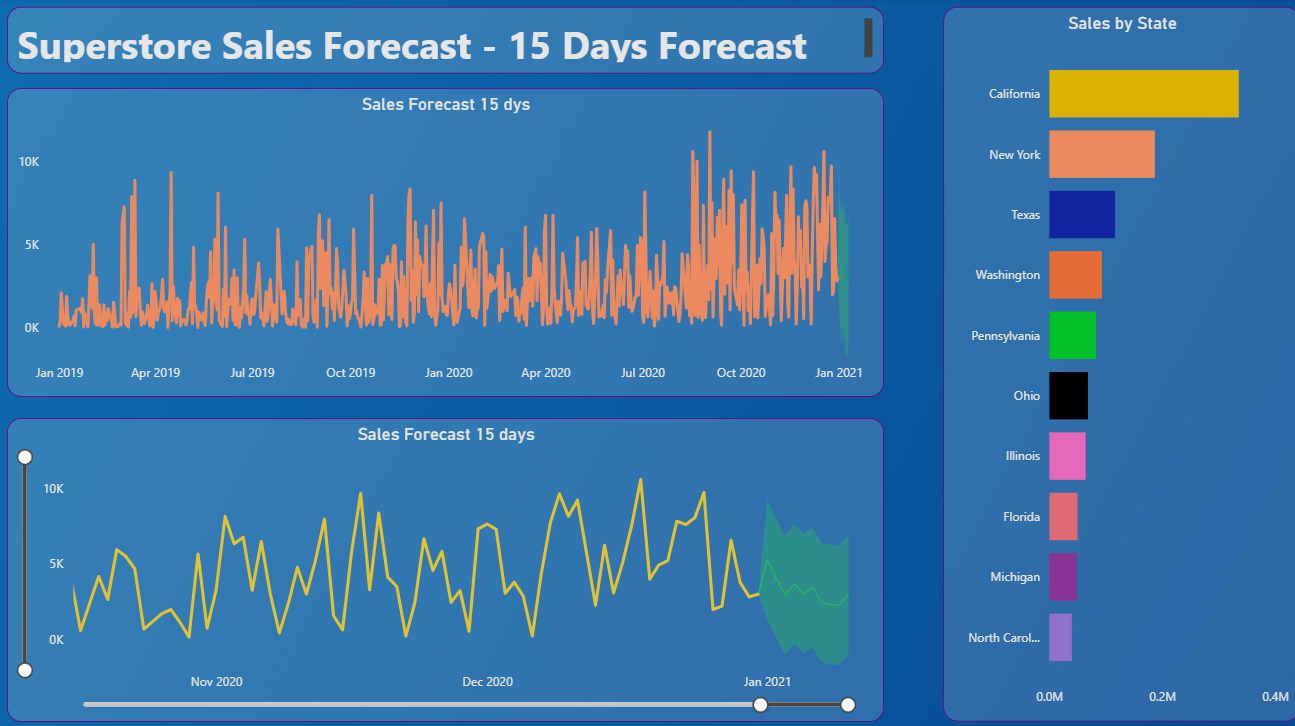

Layout of this report page (visuals, bound fields, positions):
{"tool":"powerbi","page":{"name":"Sales_Forecast","canvas":[1280,720],"ordinal":1},"visuals":[{"type":"lineChart","title":"Sales Forecast 15 dys","fields":{"Y":["Sum(SuperStore_Sales_Dataset.Sales)"],"Category":["SuperStore_Sales_Dataset.Order Date"]},"box":[10,88.3,860.8,303.5],"z":0},{"type":"lineChart","title":"Sales Forecast 15 days","fields":{"Y":["Sum(SuperStore_Sales_Dataset.Sales)"],"Category":["SuperStore_Sales_Dataset.Order Date"]},"box":[10,411.8,860.8,298.6],"z":1000},{"type":"textbox","box":[10,8.7,860.8,65.9],"z":2000},{"type":"clusteredBarChart","title":"Sales by State","fields":{"Category":["SuperStore_Sales_Dataset.State"],"Y":["Sum(SuperStore_Sales_Dataset.Sales)"]},"box":[929.2,8.7,350.8,701.6],"z":3000}]}

Visuals, with their boxes in screenshot pixels (x1, y1, x2, y2), scaled from the page's 1280x720 canvas onto the 1295x726 screenshot:
"Sales Forecast 15 dys" lineChart: 10,89,881,395
"Sales Forecast 15 days" lineChart: 10,415,881,716
textbox: 10,9,881,75
"Sales by State" clusteredBarChart: 940,9,1294,716
